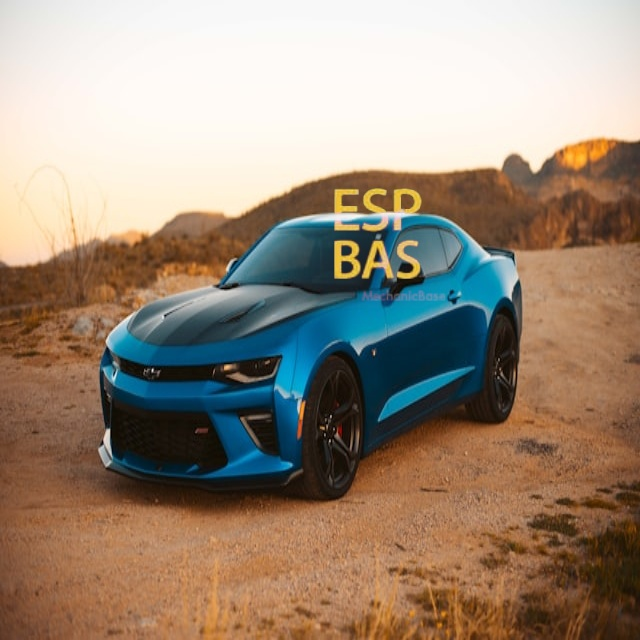symbol: (305, 162, 451, 308)
